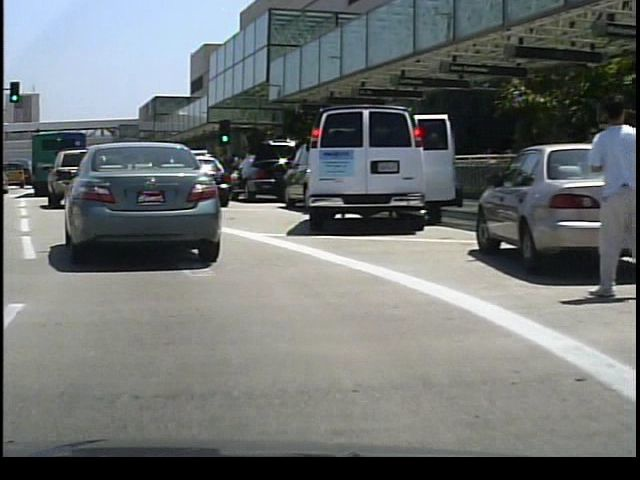person: (569, 90, 636, 300)
